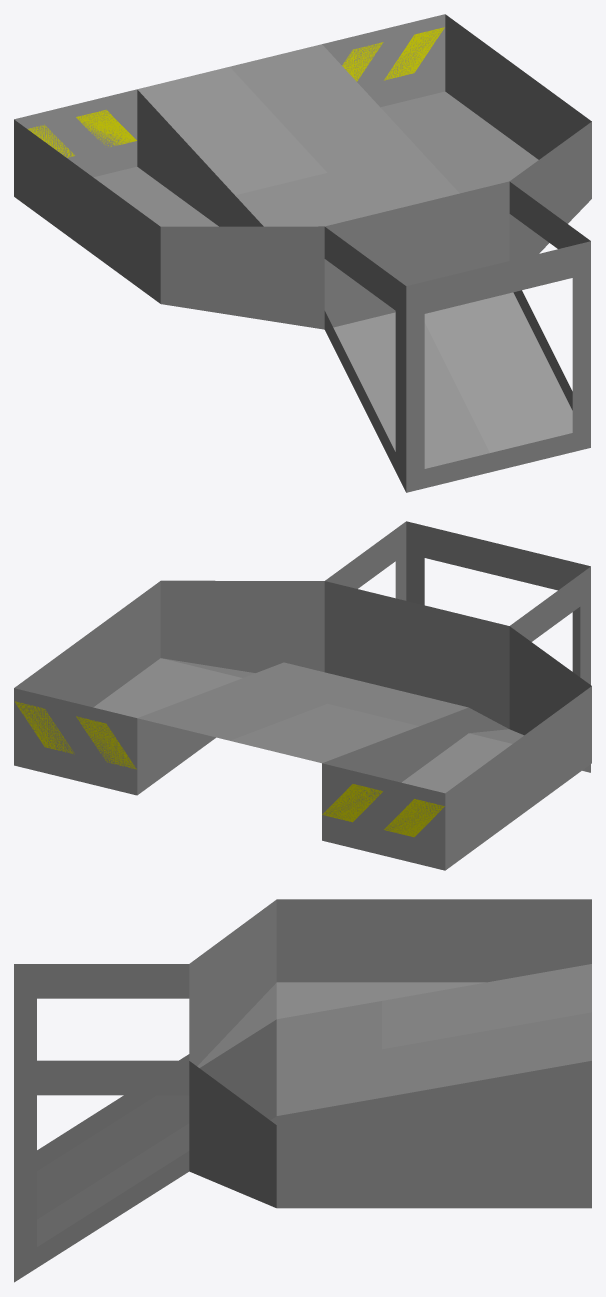
The model's file is prmpc.obj.
3 renders of one model, top to bottom at view 1: azimuth 30°, elevation 25°; view 2: azimuth 150°, elevation 25°; view 3: azimuth 270°, elevation 25°, orthographic. The views are drawn at different scales.
Size of the model in its own units: 1400 by 641 by 1513.
